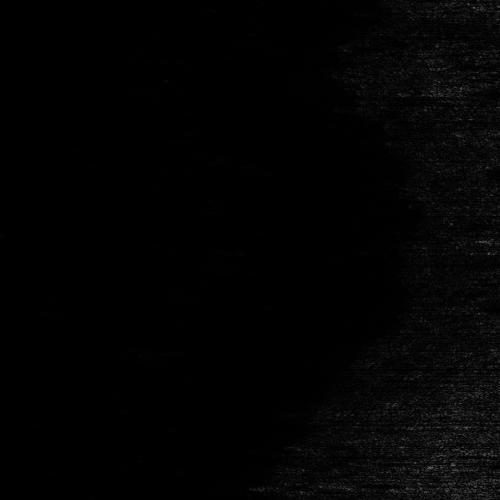object: (427, 458, 500, 465)
shadow: (469, 458, 500, 465)
